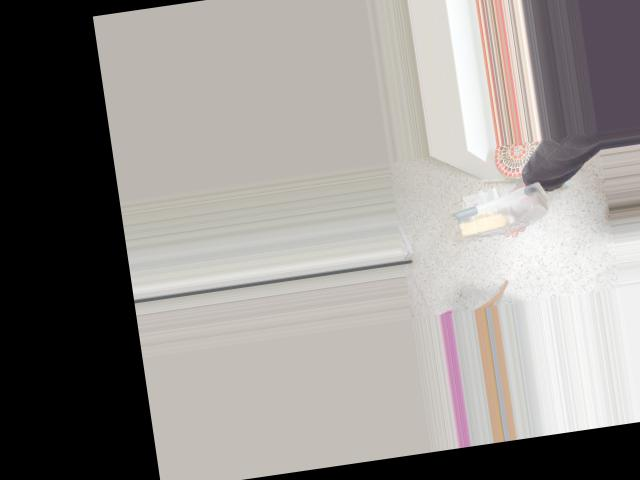cheese: (451, 177, 555, 242)
